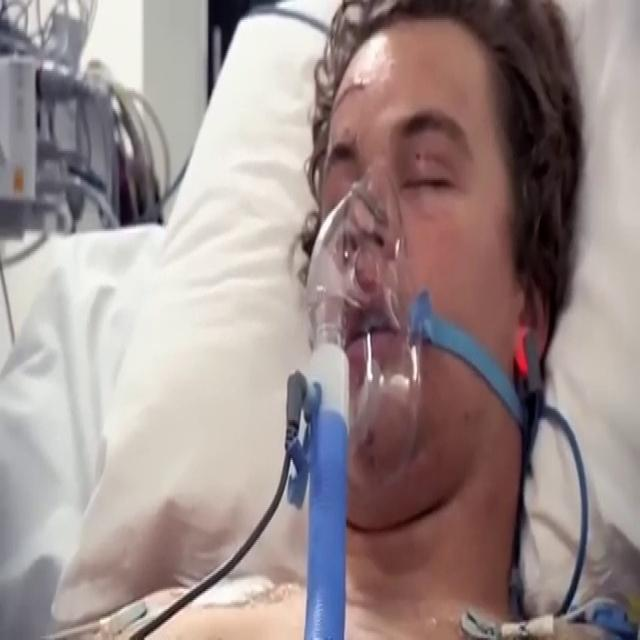patient: (1, 0, 638, 638)
